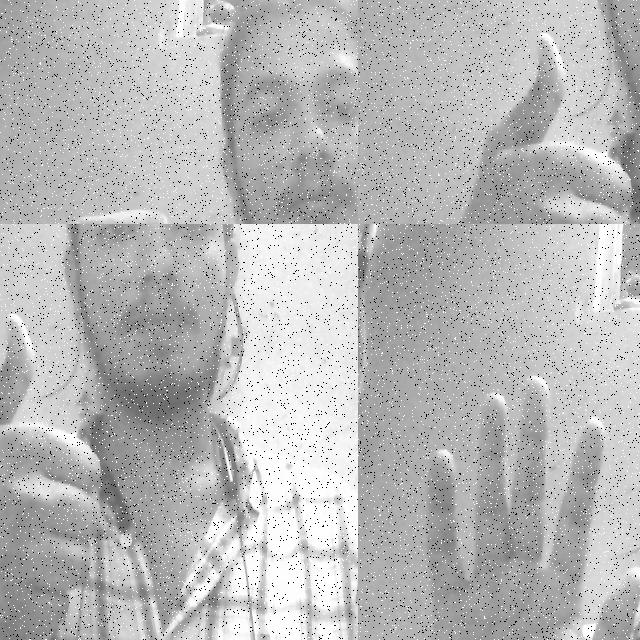Hello: (383, 361, 640, 640)
Yes: (453, 26, 638, 224), (0, 307, 107, 640)
